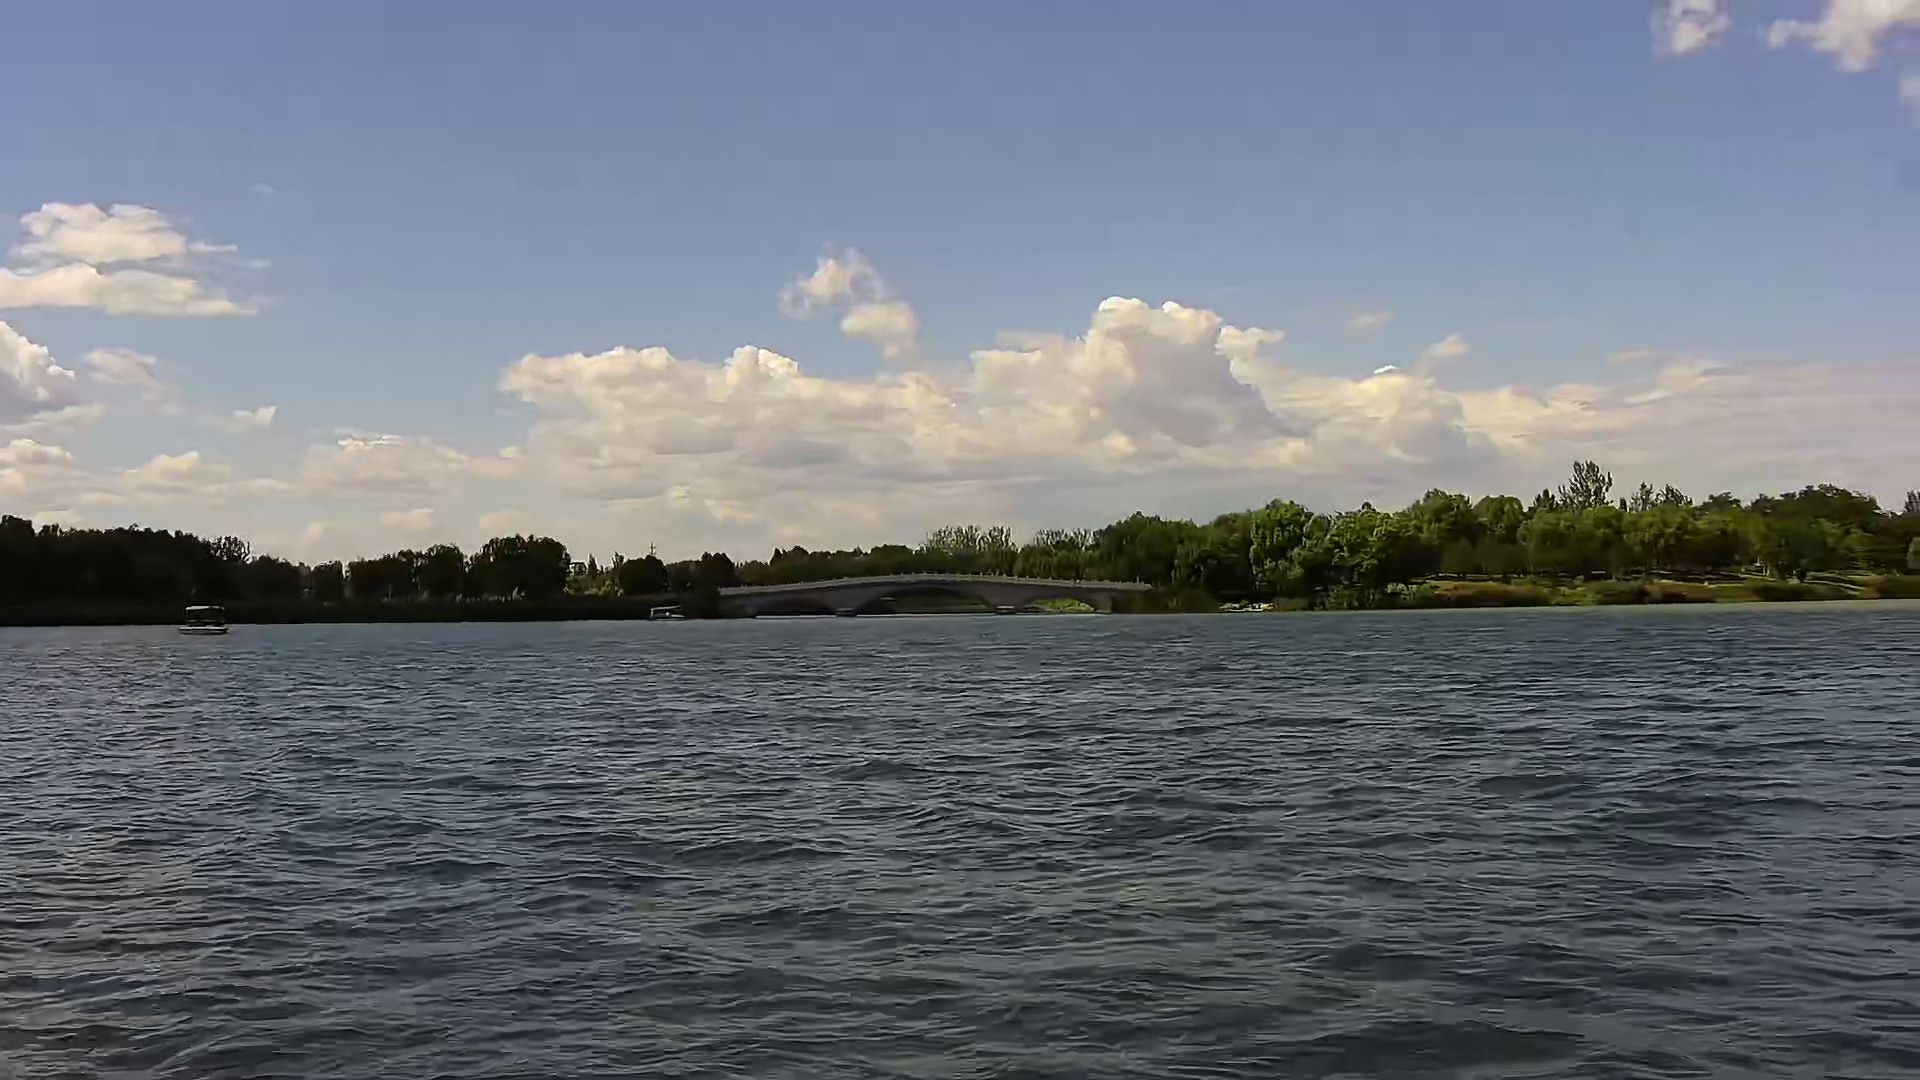boat: (175, 599, 235, 640)
bridge: (713, 568, 1166, 625)
